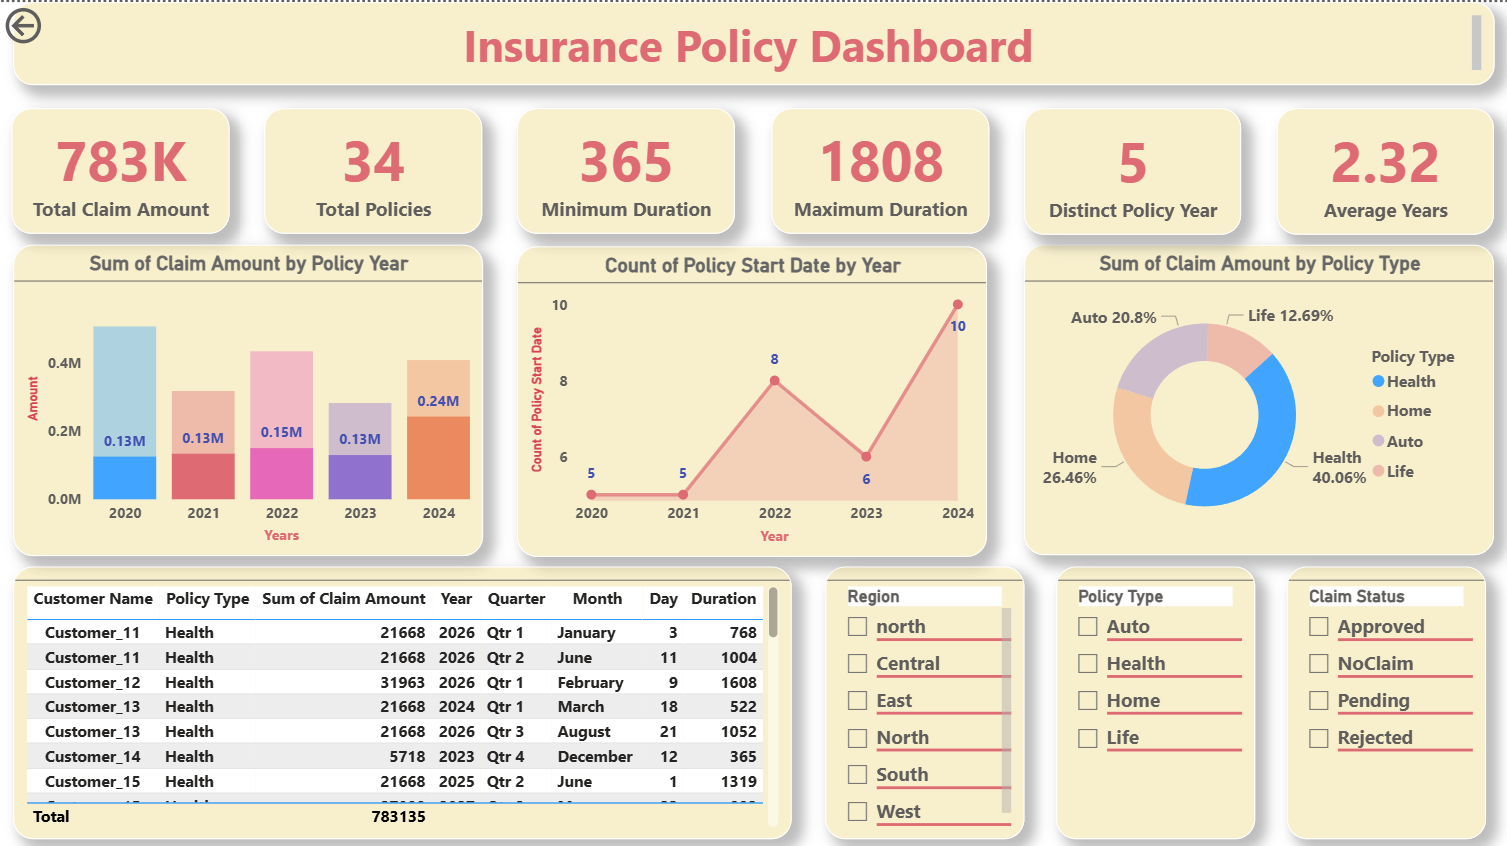

The page's visual inventory and layout, read from the dashboard file:
{"tool":"powerbi","page":{"name":"Page 1","canvas":[1280,720],"ordinal":0},"visuals":[{"type":"textbox","box":[11.4,0,1255.7,70],"z":0},{"type":"textbox","box":[10,290,280,280],"z":1000},{"type":"card","fields":{"Values":["Sum(insurance_Clean_dataset.Claim Amount)"]},"box":[10,89.5,185,106.7],"z":2000},{"type":"card","fields":{"Values":["insurance_Clean_dataset.Total Policies"]},"box":[224.6,89.5,185,106.7],"z":3000},{"type":"card","fields":{"Values":["Min(insurance_Clean_dataset.Duration)"]},"box":[439.2,89.5,185,106.7],"z":4000},{"type":"card","fields":{"Values":["Avg(insurance_Clean_dataset.Total Years)"]},"box":[1082.9,90.4,184.3,107.1],"z":5000},{"type":"card","fields":{"Values":["Max(insurance_Clean_dataset.Duration)"]},"box":[653.7,89.5,185,106.7],"z":6000},{"type":"columnChart","fields":{"Category":["insurance_Clean_dataset.Policy Year"],"Y":["Sum(insurance_Clean_dataset.Claim Amount)"]},"box":[11.4,205.1,398,264],"z":7000},{"type":"donutChart","fields":{"Category":["insurance_Clean_dataset.Policy Type"],"Y":["Sum(insurance_Clean_dataset.Claim Amount)"]},"box":[868,205.7,398.6,262.9],"z":8000},{"type":"lineChart","fields":{"Category":["insurance_Clean_dataset.Policy Start Date.Variation.Date Hierarchy.Year"],"Y":["CountNonNull(insurance_Clean_dataset.Policy Start Date)"]},"box":[438,207.1,398.6,262.9],"z":9000},{"type":"tableEx","fields":{"Values":["insurance_Clean_dataset.Customer Name","insurance_Clean_dataset.Policy Type","Sum(insurance_Clean_dataset.Claim Amount)","insurance_Clean_dataset.Policy End Date.Variation.Date Hierarchy.Year","insurance_Clean_dataset.Policy End Date.Variation.Date Hierarchy.Quarter","insurance_Clean_dataset.Policy End Date.Variation.Date Hierarchy.Month","insurance_Clean_dataset.Policy End Date.Variation.Date Hierarchy.Day","insurance_Clean_dataset.Duration"]},"box":[11.4,478.6,660,231.4],"z":10000},{"type":"actionButton","box":[0,0,100,40],"z":11000},{"type":"card","fields":{"Values":["Count(insurance_Clean_dataset.Policy Year)"]},"box":[868.6,90.4,184.3,107.1],"z":12000},{"type":"slicer","fields":{"Values":["insurance_Clean_dataset.Region"]},"box":[700,478.6,168.6,231.4],"z":13000},{"type":"slicer","fields":{"Values":["insurance_Clean_dataset.Policy Type"]},"box":[895.7,478.6,168.6,231.4],"z":14000},{"type":"slicer","fields":{"Values":["insurance_Clean_dataset.Claim Status"]},"box":[1091.4,478.6,168.6,231.4],"z":15000}]}

Visuals, with their boxes in screenshot pixels (x1, y1, x2, y2), scaled from the page's 1280x720 canvas onto the 1507x846 screenshot:
textbox: 13/0/1492/82
textbox: 12/341/341/670
card - Sum(insurance_Clean_dataset.Claim Amount): 12/105/230/231
card - insurance_Clean_dataset.Total Policies: 264/105/482/231
card - Min(insurance_Clean_dataset.Duration): 517/105/735/231
card - Avg(insurance_Clean_dataset.Total Years): 1275/106/1492/232
card - Max(insurance_Clean_dataset.Duration): 770/105/987/231
columnChart - insurance_Clean_dataset.Policy Year x Sum(insurance_Clean_dataset.Claim Amount): 13/241/482/551
donutChart - insurance_Clean_dataset.Policy Type x Sum(insurance_Clean_dataset.Claim Amount): 1022/242/1491/551
lineChart - insurance_Clean_dataset.Policy Start Date.Variation.Date Hierarchy.Year x CountNonNull(insurance_Clean_dataset.Policy Start Date): 516/243/985/552
tableEx - insurance_Clean_dataset.Customer Name x insurance_Clean_dataset.Policy Type: 13/562/790/834
actionButton: 0/0/118/47
card - Count(insurance_Clean_dataset.Policy Year): 1023/106/1240/232
slicer - insurance_Clean_dataset.Region: 824/562/1023/834
slicer - insurance_Clean_dataset.Policy Type: 1055/562/1253/834
slicer - insurance_Clean_dataset.Claim Status: 1285/562/1483/834
